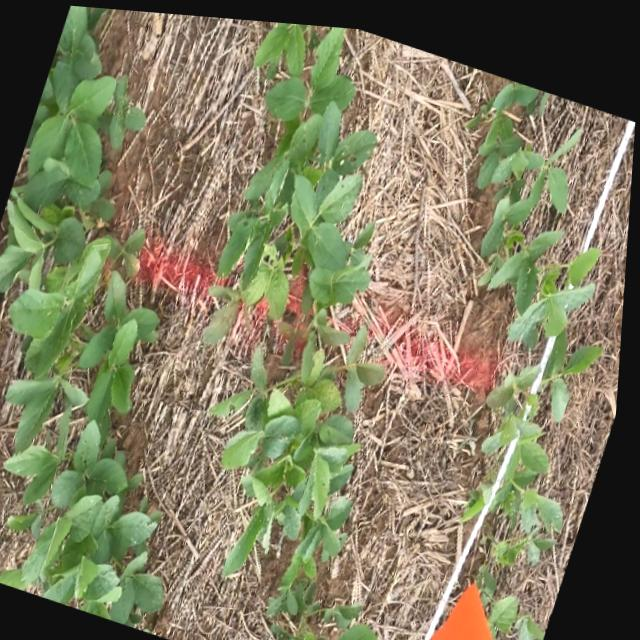soy_plant: (208, 18, 389, 640), (0, 4, 171, 624), (469, 72, 606, 557), (484, 557, 553, 635)
